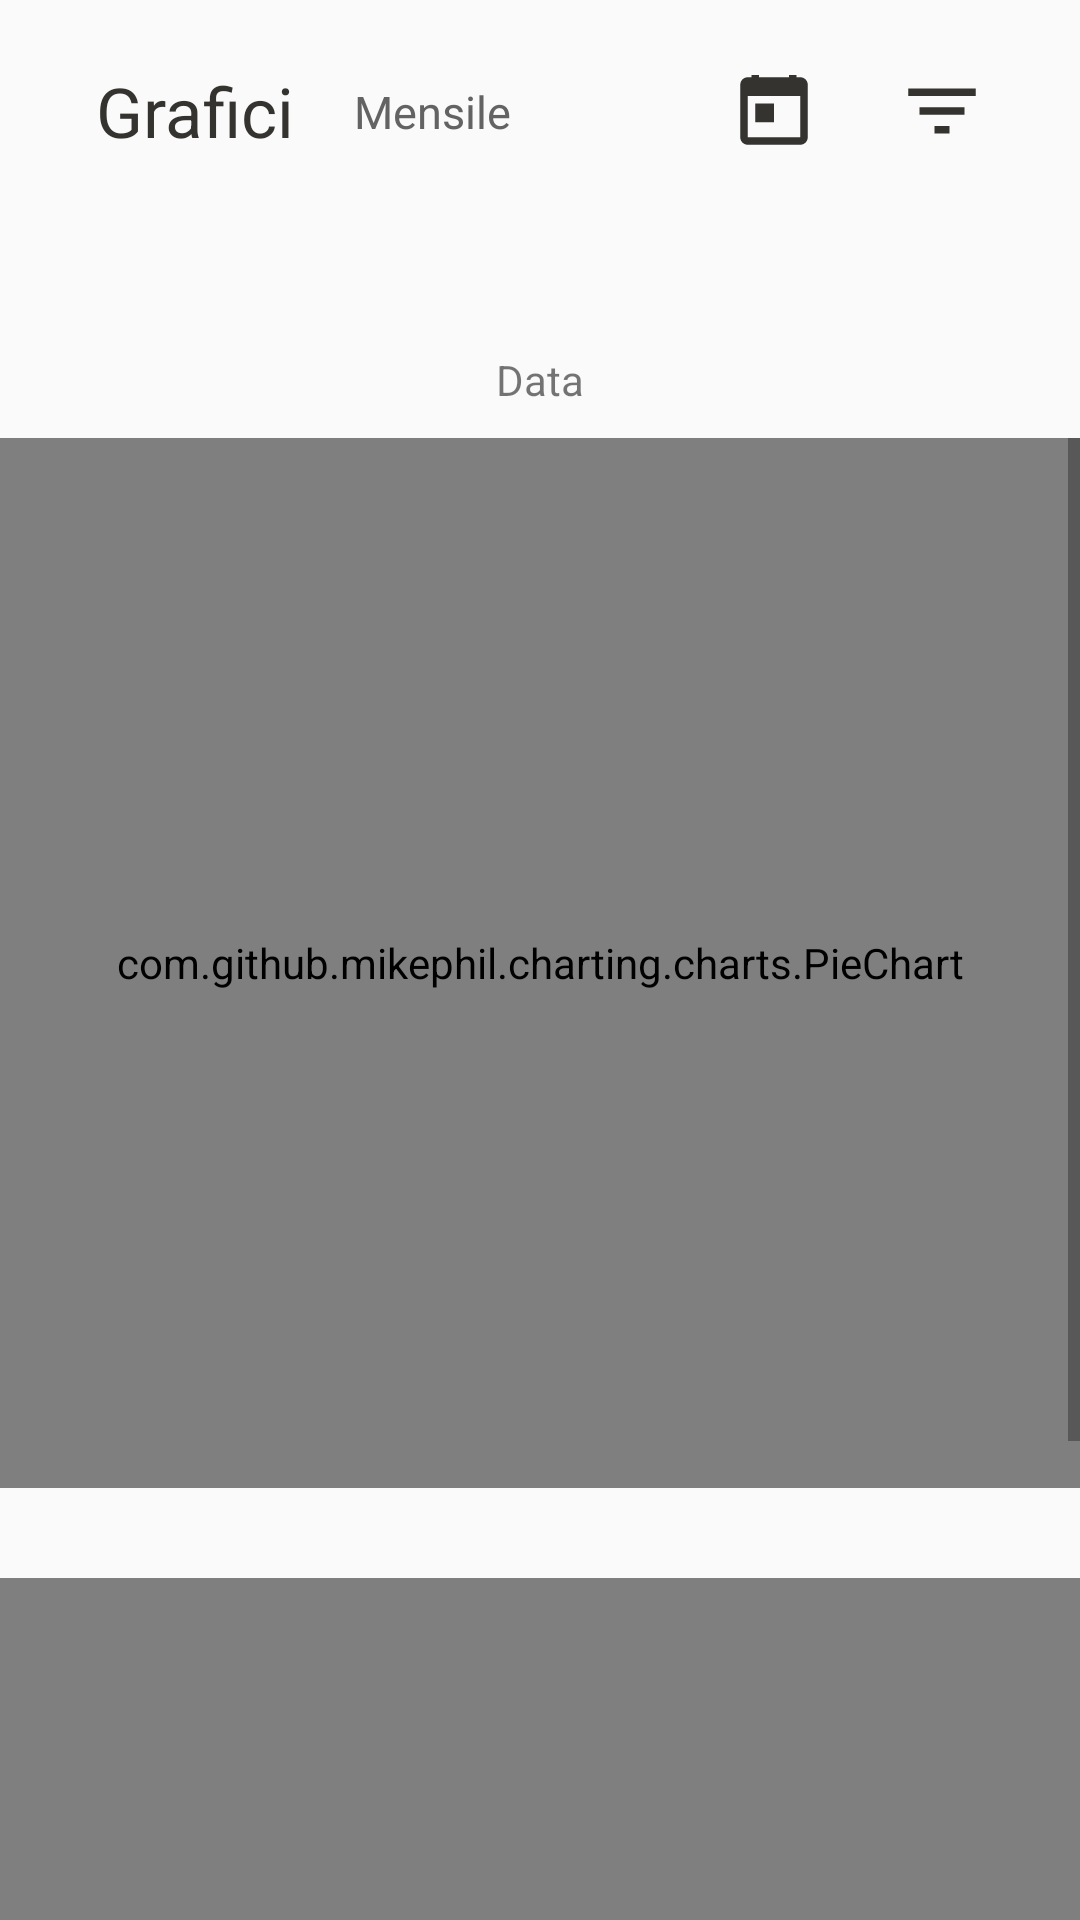

Point at icon controls on the screen. Image size 1080w x 1920h, points as point (x, y).
date: point (774, 110)
filter: point (942, 111)
